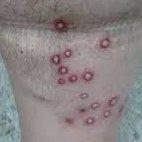Ants: (52, 16, 69, 33), (98, 36, 112, 50), (49, 52, 62, 65), (67, 72, 78, 83), (109, 95, 118, 106), (83, 72, 93, 80), (64, 117, 73, 125), (86, 117, 95, 125), (58, 66, 67, 73), (103, 108, 110, 117), (63, 50, 71, 57), (57, 78, 65, 84), (91, 102, 99, 108), (79, 93, 87, 98), (79, 108, 85, 112)
